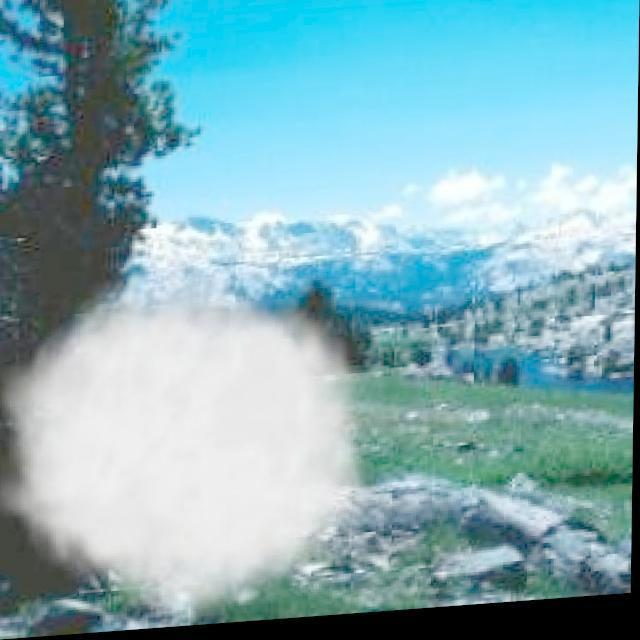Smoke: (0, 272, 362, 630)
